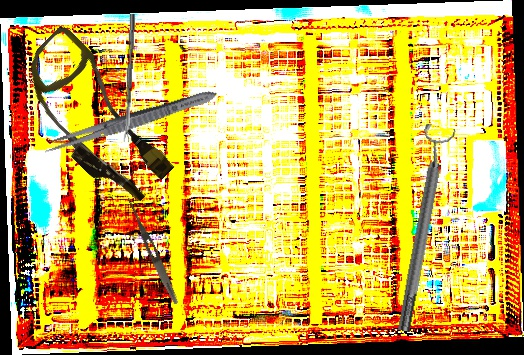Cannula: (0, 23, 191, 214)
Dressing Forceps: (41, 85, 220, 158), (122, 196, 182, 306)
Fixation Ring: (384, 123, 460, 334)
Surgical Spoon: (122, 13, 136, 143)
